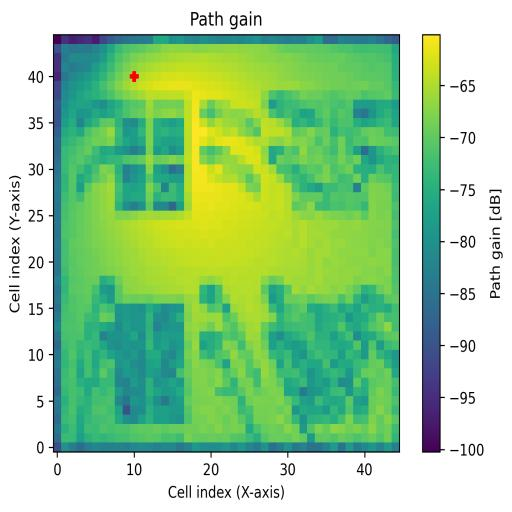Concrete: (292, 101, 368, 211)
Glass: (114, 100, 184, 212)
Metal: (284, 296, 377, 425)
Wood: (99, 303, 185, 425)
